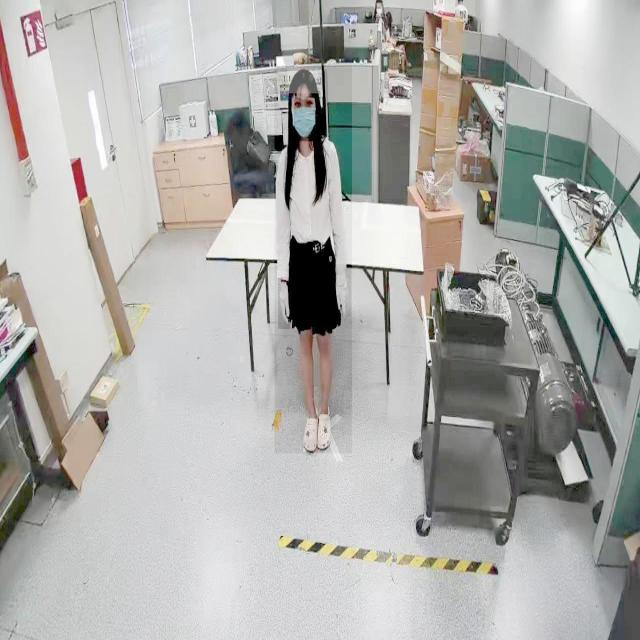face_mask: (294, 100, 321, 142), (376, 2, 384, 18)
hand_glove: (332, 264, 352, 317), (278, 277, 291, 330)
head_nohelmet: (288, 68, 318, 94)
person: (274, 66, 352, 454)
